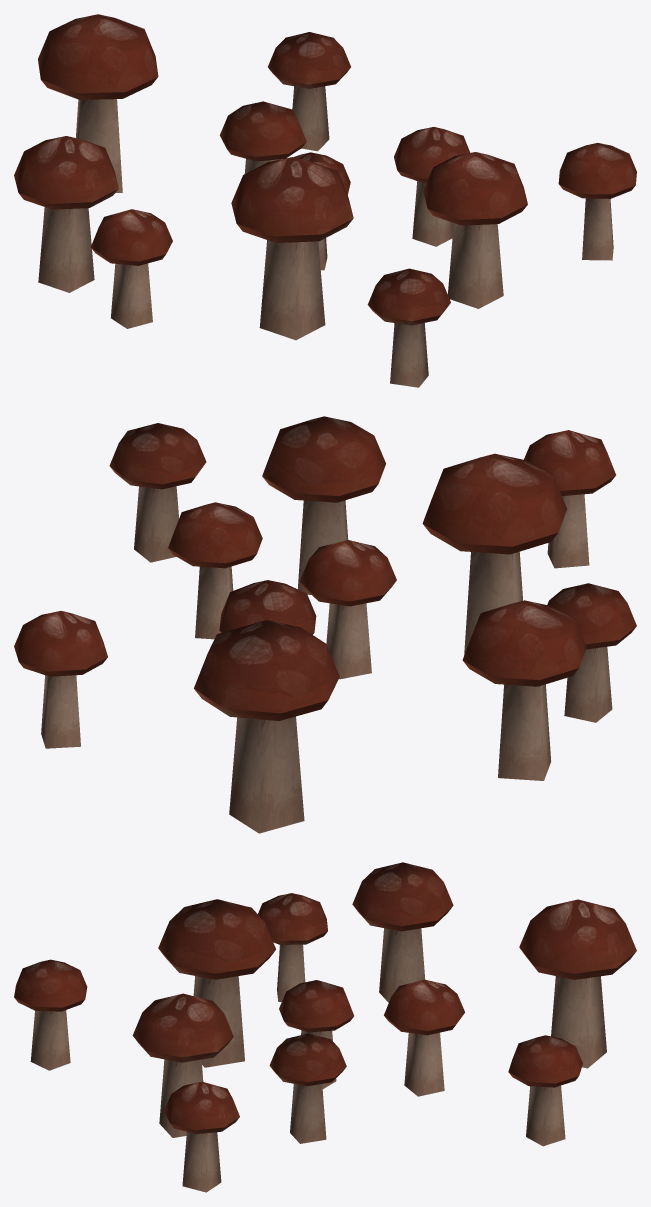
The model's file is Mushrooms_03.fbx.
3 views of the same model, one above another, from view 1: azimuth 30°, elevation 25°; view 2: azimuth 150°, elevation 25°; view 3: azimuth 270°, elevation 25° (orthographic). The views are drawn at different scales.
Parts seen in each view (by area): view 1: Mushrooms03; view 2: Mushrooms03; view 3: Mushrooms03.
Part boxes in pixels (bbox=[...]): Mushrooms03: bbox=[14, 14, 636, 387]; Mushrooms03: bbox=[14, 416, 636, 833]; Mushrooms03: bbox=[14, 862, 636, 1192].
Size of the model in its own units: 0.2362 by 0.0756 by 0.2722.
Materials: 1 (1 with a texture image).
